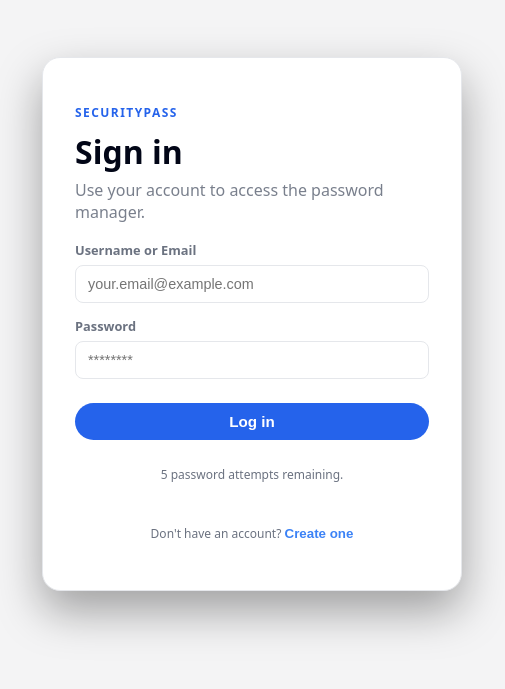
Test: Login Page › shows error message on wrong credentials
The image size is (505, 689).
Type "test@test.com" into the field with placeholder "your.email@example.com" at (252, 284), box 75,266 -> 429,304
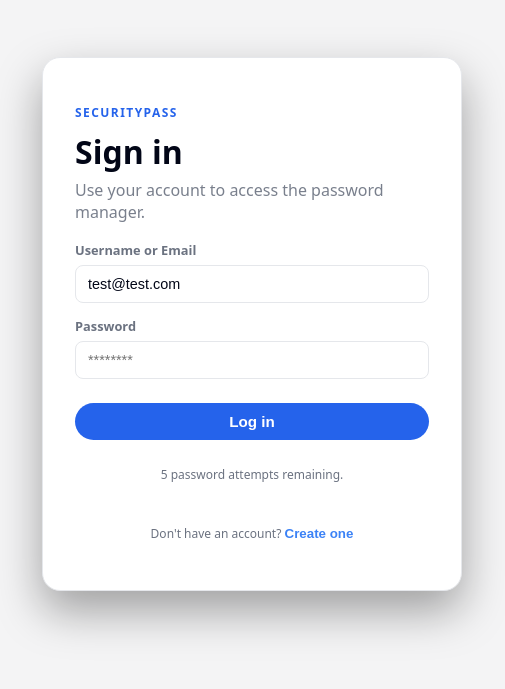
Type "wrongpassword" into the password field with placeholder "********" at (252, 360), box 75,342 -> 429,380
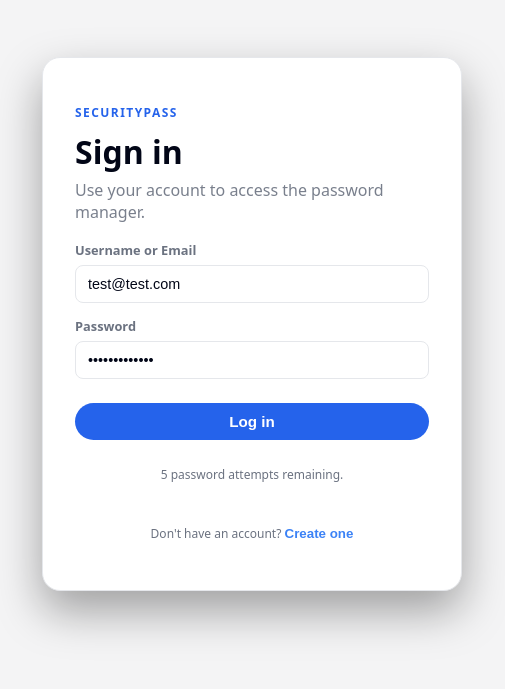
Click the button "Log in" at (252, 422), box 75,404 -> 429,440
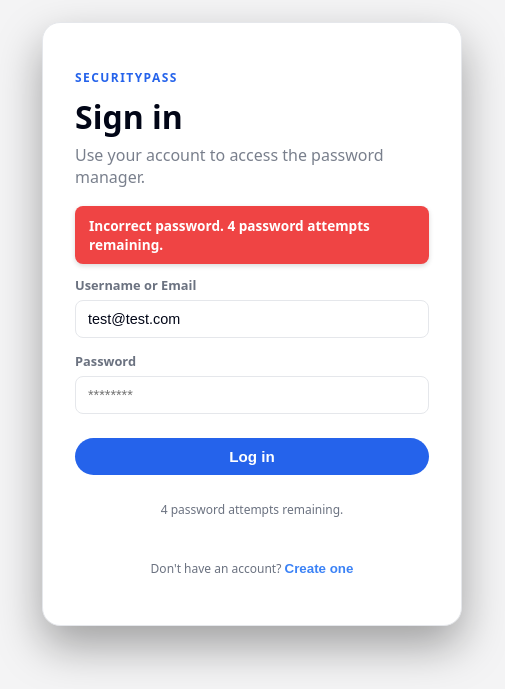
Now the text "Incorrect password. 4 password attempts remaining." is shown, box 75,206 -> 429,264
